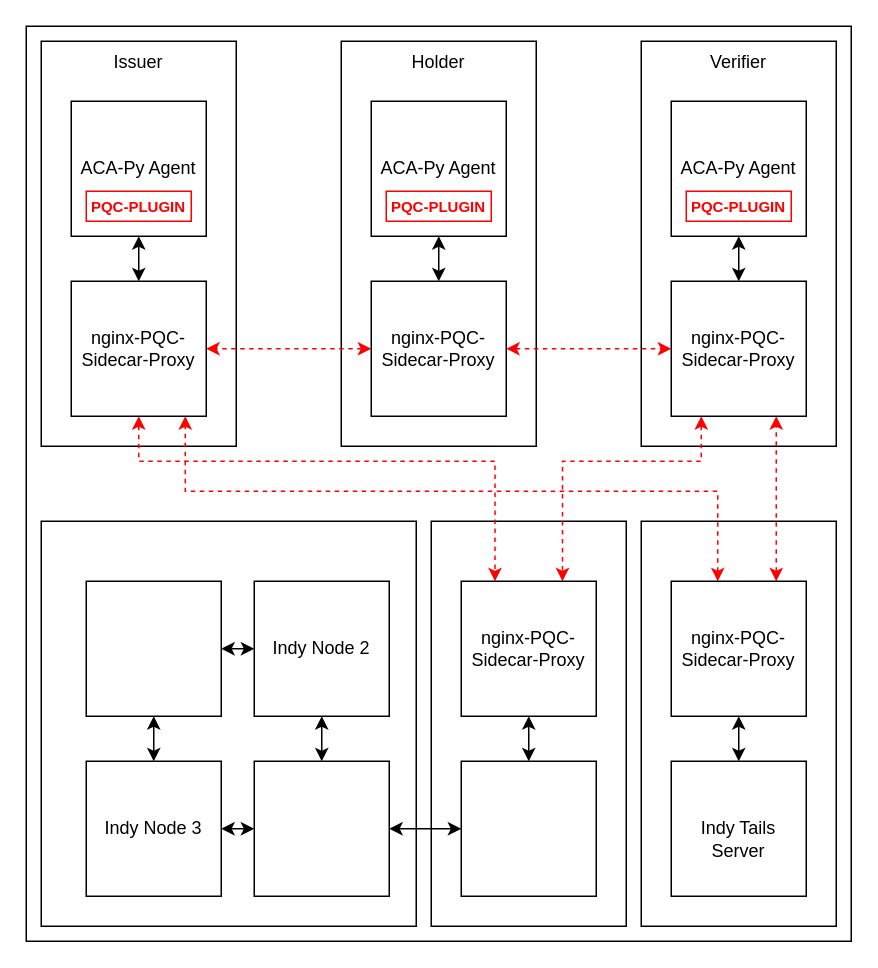
This 878x968 diagram has some shape labels left out. The box of each missing label's shape, as (x1, y1, x2, y2) in pixels:
Distributed Ledger: (40, 520, 416, 926)
Indy Node 1: (85, 580, 221, 716)
Indy Node 4: (253, 760, 389, 896)
Indy Webserver Node: (460, 760, 596, 896)
Ledger Browser: (430, 520, 626, 926)
Revocation Registry: (640, 520, 836, 926)
